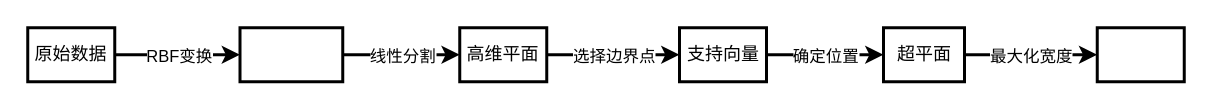
This 1211x108 diagram has some shape labels left out. Here are the shapes that lost their labels. From the top down, the centre of each, then its label:
At (x=291, y=54): "核函数映射".
At (x=1140, y=54): "间隔优化".
